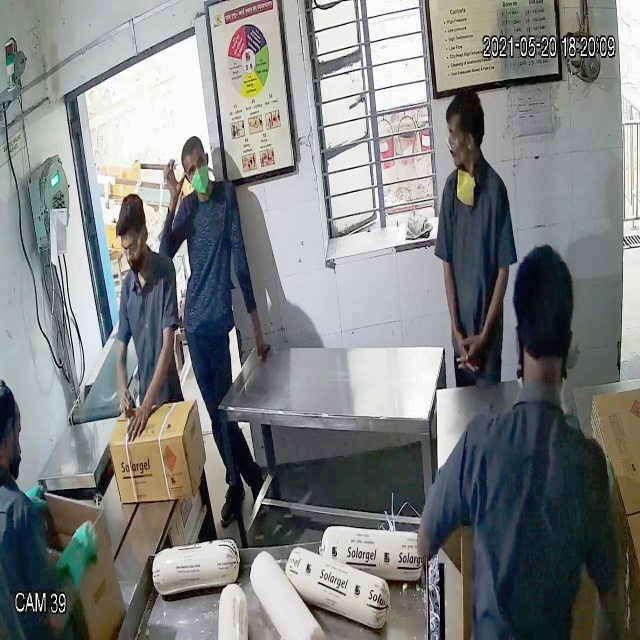Gafas: (439, 126, 472, 153), (117, 231, 146, 260)
Sin_gafas: (180, 157, 212, 181)
